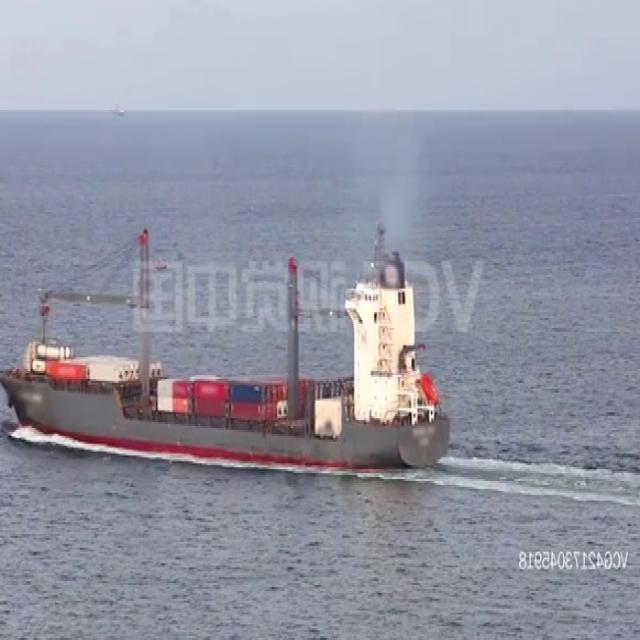cargoship: (1, 213, 447, 483)
